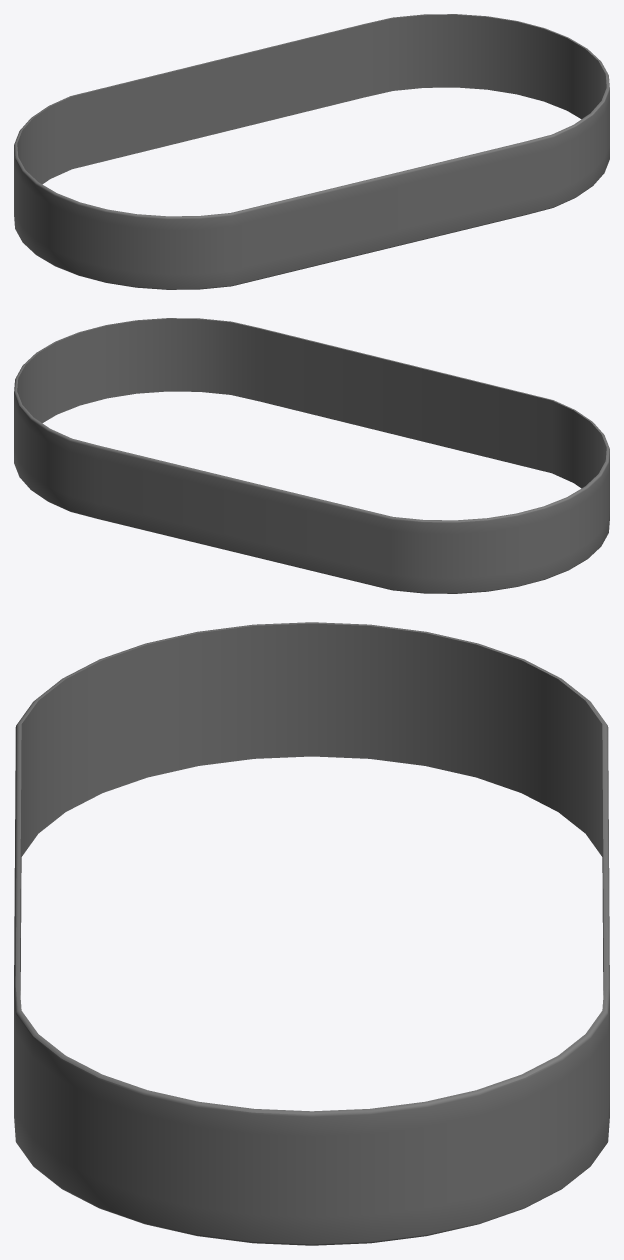
File: cetakan elips.fbx
3 renders of one model, top to bottom at view 1: azimuth 30°, elevation 25°; view 2: azimuth 150°, elevation 25°; view 3: azimuth 270°, elevation 25°, orthographic. The views are drawn at different scales.
Visible parts, largest first — view 1: Circle; view 2: Circle; view 3: Circle.
Boxes of the visible parts, x1,y1,x2,y2 form: Circle: (14, 14, 609, 289); Circle: (14, 318, 609, 593); Circle: (14, 622, 609, 1245).
Size of the model in its own units: 394 by 49.55 by 201.
Materials: 1 (1 with a texture image).
